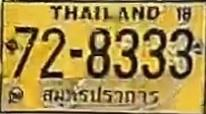2: (40, 26, 64, 78)
3: (168, 27, 194, 78), (113, 27, 138, 78), (142, 27, 166, 78)
7: (13, 26, 38, 77)
8: (86, 27, 110, 77)
SPK: (40, 83, 161, 107)
